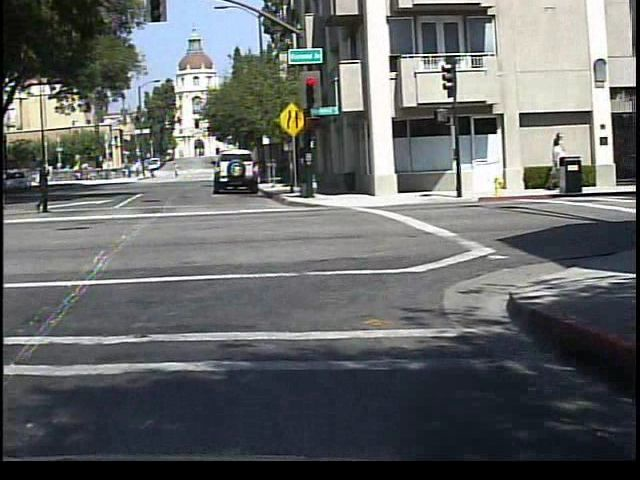person: (24, 156, 57, 216), (2, 168, 30, 229), (168, 160, 179, 180), (144, 164, 155, 180)
